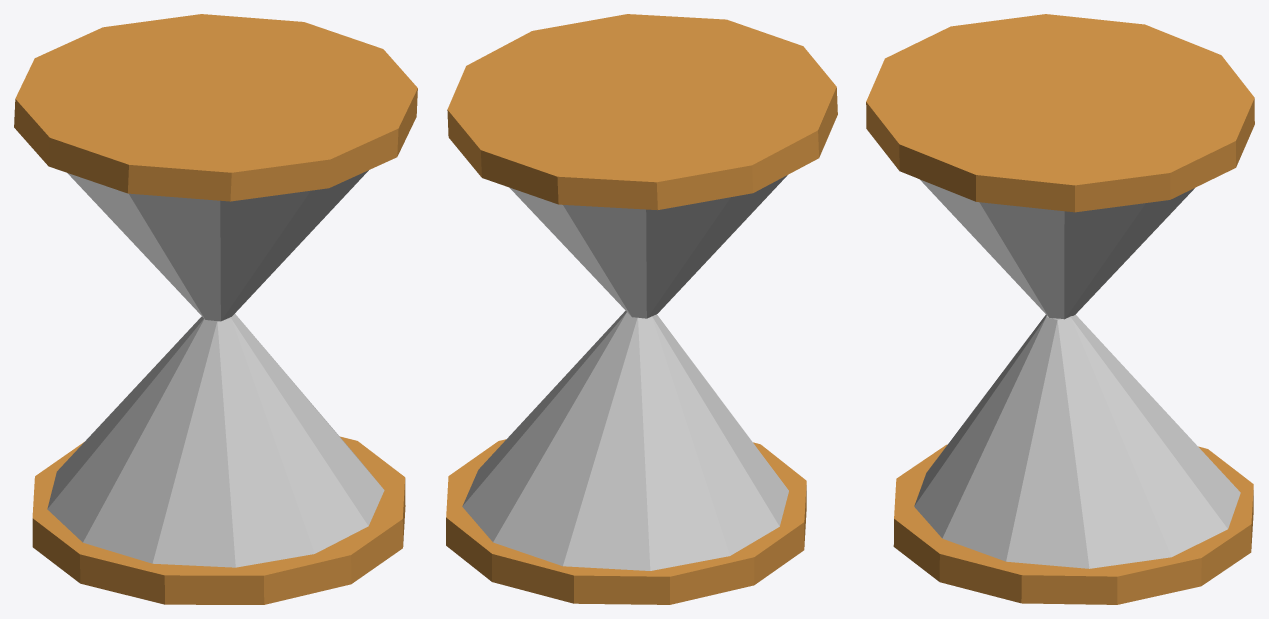
3 views of the same model, side by side, from view 1: azimuth 30°, elevation 25°; view 2: azimuth 150°, elevation 25°; view 3: azimuth 270°, elevation 25° (orthographic). The views are drawn at different scales.
Visible parts, largest first — view 1: mesh_1214579490, mesh_1166739221, mesh_9337605, mesh_2098722734; view 2: mesh_1214579490, mesh_1166739221, mesh_9337605, mesh_2098722734; view 3: mesh_1214579490, mesh_1166739221, mesh_9337605, mesh_2098722734.
Boxes of the visible parts, bbox=[...] form: mesh_1214579490: bbox=[14, 14, 417, 201]; mesh_1166739221: bbox=[47, 314, 384, 567]; mesh_9337605: bbox=[32, 436, 405, 604]; mesh_2098722734: bbox=[67, 170, 368, 321]; mesh_1214579490: bbox=[447, 14, 837, 210]; mesh_1166739221: bbox=[462, 310, 788, 570]; mesh_9337605: bbox=[446, 439, 806, 604]; mesh_2098722734: bbox=[509, 175, 787, 318]; mesh_1214579490: bbox=[866, 14, 1254, 212]; mesh_1166739221: bbox=[914, 314, 1240, 568]; mesh_9337605: bbox=[893, 444, 1253, 604]; mesh_2098722734: bbox=[920, 179, 1194, 319].
Size of the model in its own units: 43.08 by 52.72 by 42.94.
